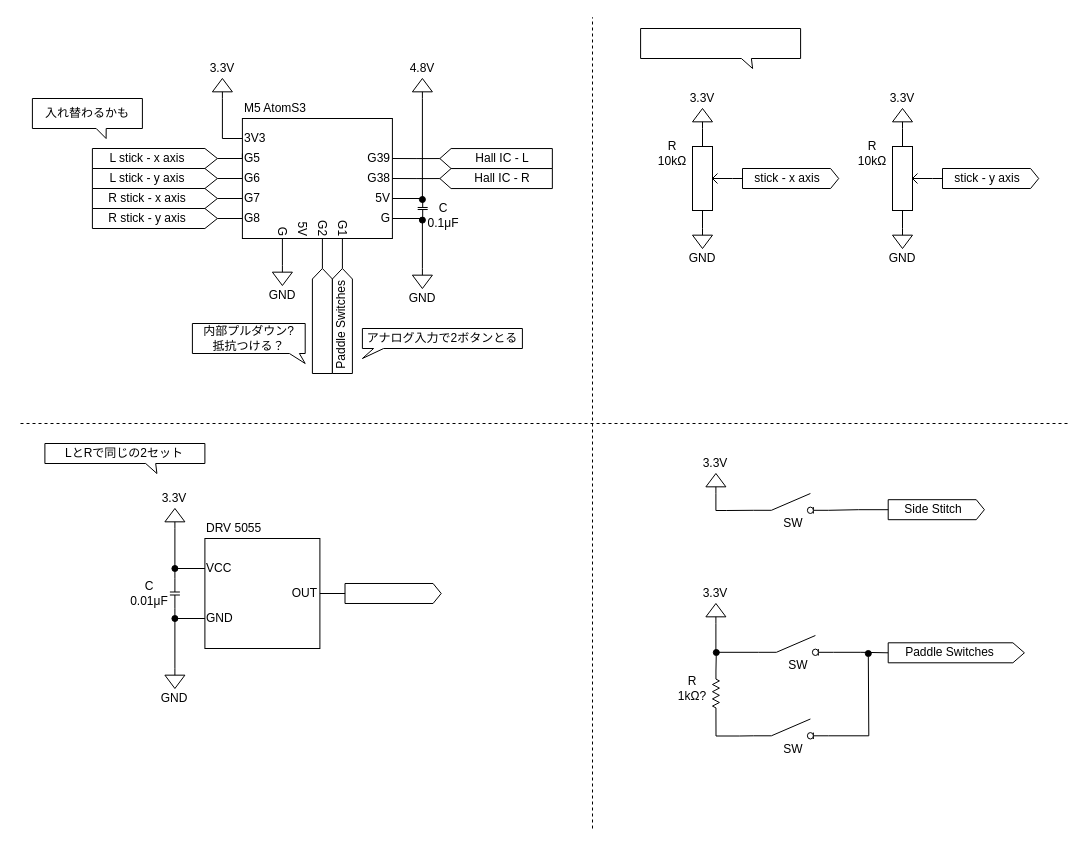
Image size: 1086x848. Some labels were removed from this diagram. The centre of each missing label's shape, as x and y in pixels:
"Hall IC" belongs at point 392,593.
"Side Switch" belongs at point 321,321.
"ジョイスティック． LとRで同じの2セット" belongs at point 720,48.
